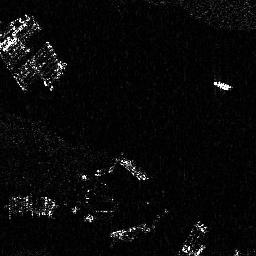ship: (121, 159, 151, 180), (213, 79, 232, 92)
